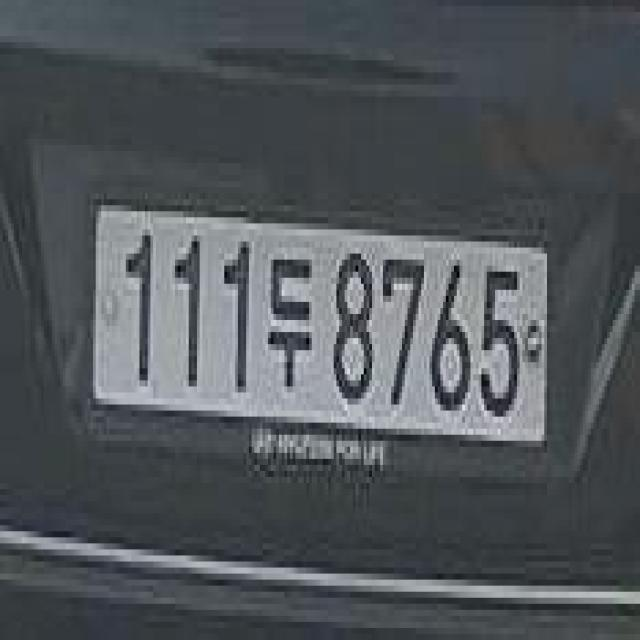illegal_plate: (86, 185, 556, 490)
